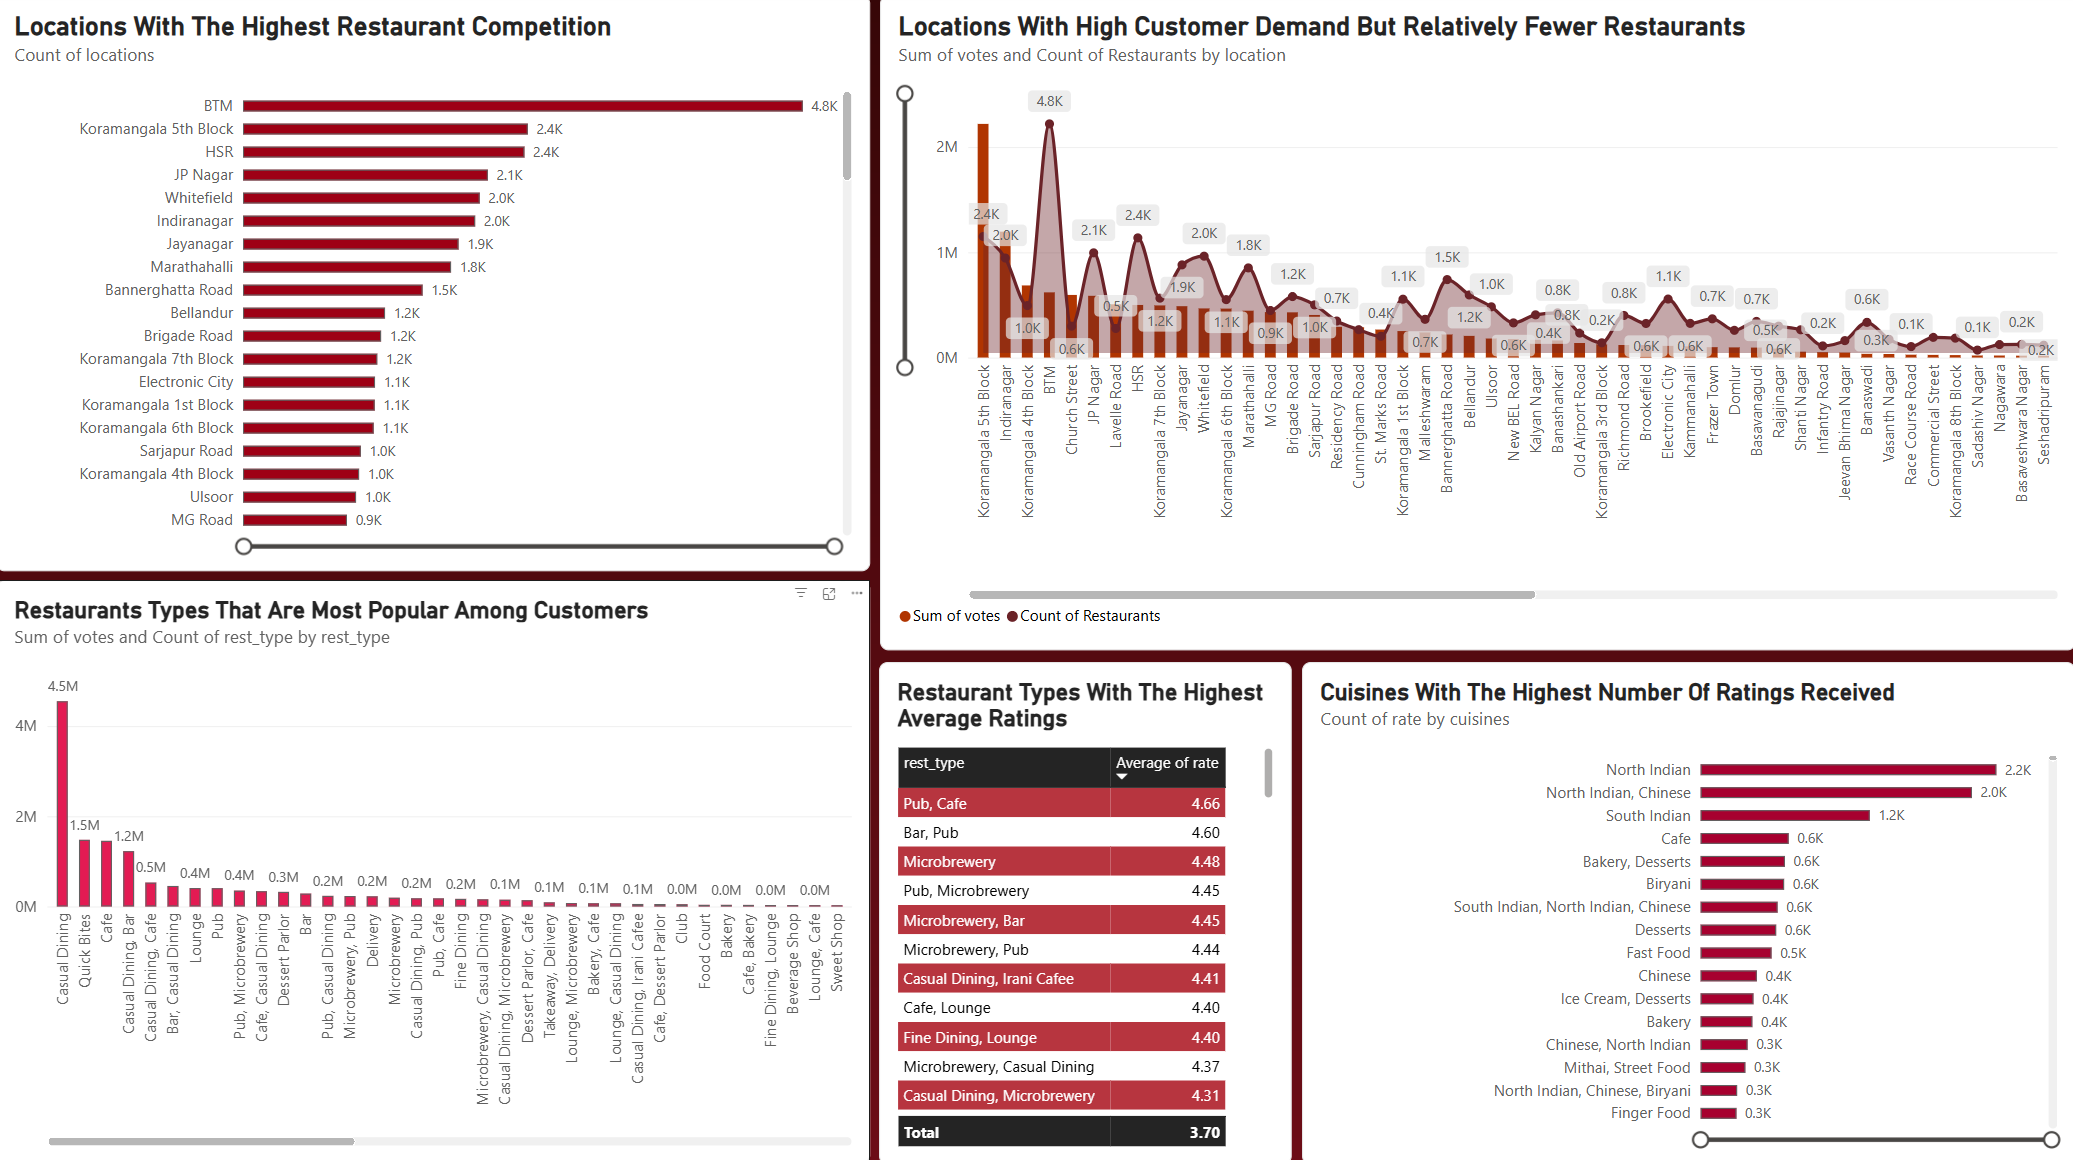

This screenshot's page, from the dashboard's own definition file:
{"tool":"powerbi","page":{"name":"Page 2","canvas":[1920,1080],"ordinal":1},"visuals":[{"type":"image","box":[0,0,1920,1079.8],"z":0},{"type":"clusteredBarChart","title":"Locations With The Highest Restaurant Competition","fields":{"Category":["Zomato Cleaned Dataset.location"],"Y":["CountNonNull(Zomato Cleaned Dataset.location)"]},"box":[0,0,806.7,531.9],"z":1000},{"type":"lineClusteredColumnComboChart","title":"Locations With High Customer Demand But Relatively Fewer Restaurants","fields":{"Category":["Zomato Cleaned Dataset.location"],"Y":["Sum(Zomato Cleaned Dataset.votes)"],"Y2":["CountNonNull(Zomato Cleaned Dataset.name)"]},"box":[815.6,0,1104.4,604.7],"z":2000},{"type":"clusteredColumnChart","title":"Restaurants  Types That Are Most Popular Among Customers","fields":{"Category":["Zomato Cleaned Dataset.rest_type"],"Y":["Sum(Zomato Cleaned Dataset.votes)"]},"box":[0,540.3,806.7,539.4],"z":3000},{"type":"tableEx","title":"Restaurant Types With The Highest Average Ratings","fields":{"Values":["Zomato Cleaned Dataset.rest_type","Avg(Zomato Cleaned Dataset.rate)"]},"box":[815.1,616,381.4,463.6],"z":4000},{"type":"clusteredBarChart","title":"Cuisines With The Highest Number Of Ratings Received","fields":{"Category":["Zomato Cleaned Dataset.cuisines"],"Y":["CountNonNull(Zomato Cleaned Dataset.rate)"]},"box":[1205.8,616,714.2,463.6],"z":5000}]}

Visuals, with their boxes in screenshot pixels (x1, y1, x2, y2), scaled from the page's 1920x1080 canvas onto the 2073x1160 screenshot:
image: <box>0,0,2072,1159</box>
"Locations With The Highest Restaurant Competition" clusteredBarChart: <box>0,0,871,571</box>
"Locations With High Customer Demand But Relatively Fewer Restaurants" lineClusteredColumnComboChart: <box>881,0,2072,649</box>
"Restaurants  Types That Are Most Popular Among Customers" clusteredColumnChart: <box>0,580,871,1159</box>
"Restaurant Types With The Highest Average Ratings" tableEx: <box>880,662,1292,1159</box>
"Cuisines With The Highest Number Of Ratings Received" clusteredBarChart: <box>1302,662,2072,1159</box>
